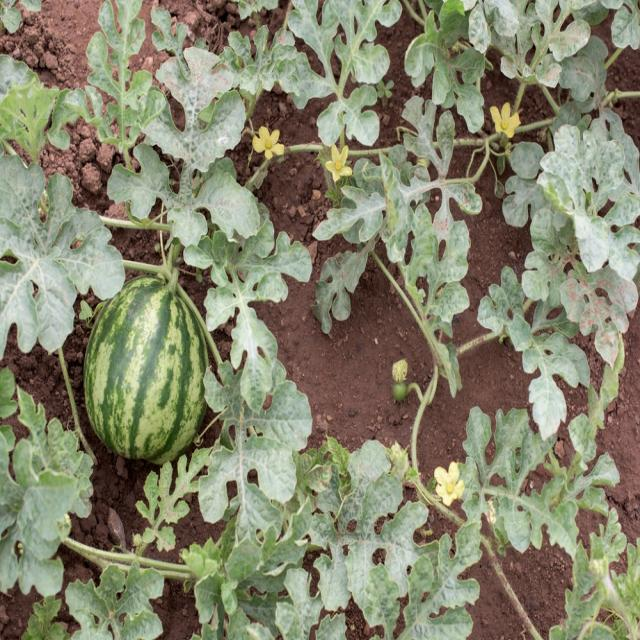watermelon: (82, 273, 209, 467)
